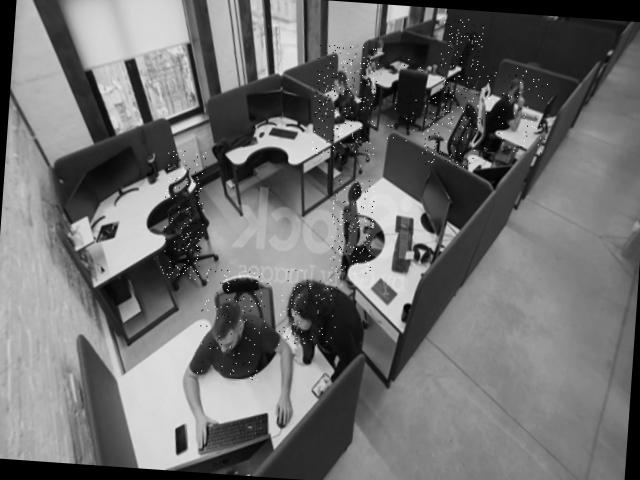empty chair: (159, 148, 208, 280), (328, 177, 376, 276), (421, 96, 478, 169), (436, 17, 484, 103), (386, 54, 427, 144)
occupiedchair: (196, 268, 270, 380), (310, 44, 380, 160), (469, 64, 549, 154)
